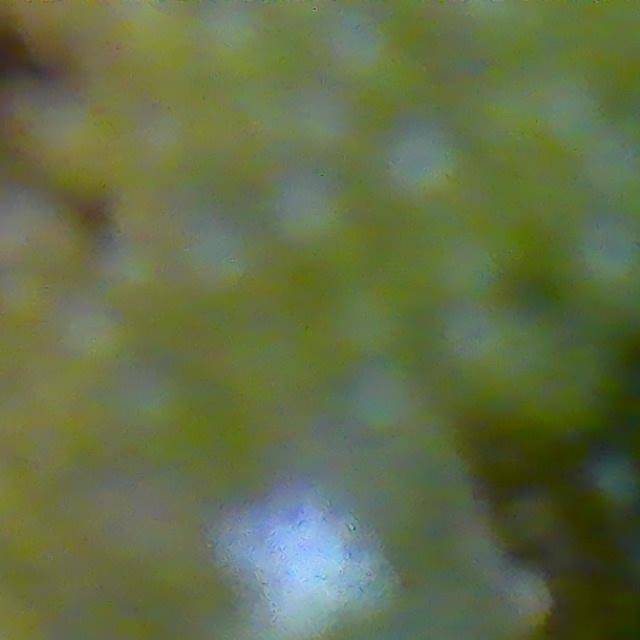SeaGrape: (551, 213, 640, 333), (168, 216, 276, 304), (377, 122, 470, 215), (262, 169, 351, 253), (587, 453, 640, 510)
